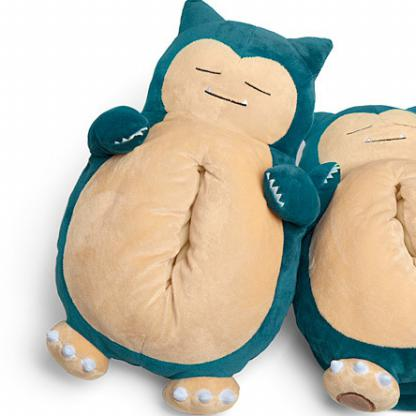Snorlax: (37, 1, 329, 416), (281, 60, 416, 416)
